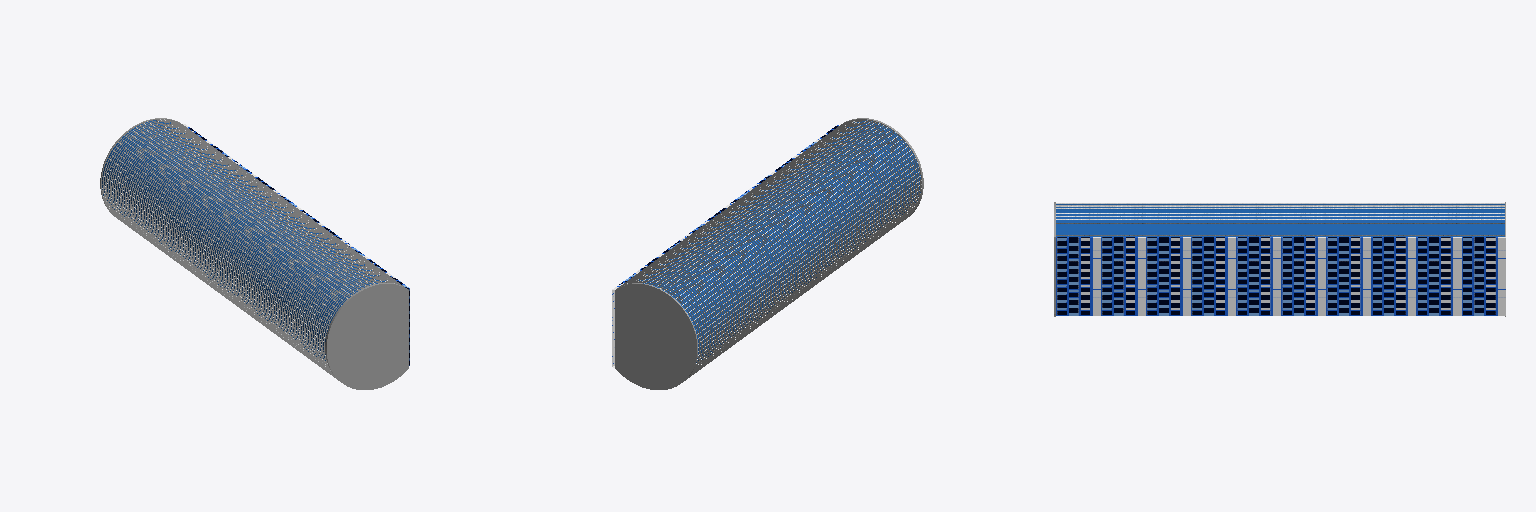
3 views of the same model, side by side, from view 1: azimuth 30°, elevation 25°; view 2: azimuth 150°, elevation 25°; view 3: azimuth 270°, elevation 25° (orthographic).
Visible parts, largest first — view 1: slab_01, glass_01, wall_01, wall_1_01; view 2: slab_01, glass_01, wall_01, wall_1_01; view 3: wall_1_01, glass_01, wall_01.
Part boxes in pixels (left/top/right/bottom): slab_01: left=100, top=118, right=408, bottom=389; glass_01: left=102, top=120, right=385, bottom=360; wall_01: left=102, top=119, right=394, bottom=370; wall_1_01: left=183, top=124, right=409, bottom=365; slab_01: left=615, top=118, right=923, bottom=389; glass_01: left=639, top=120, right=920, bottom=362; wall_01: left=627, top=120, right=921, bottom=364; wall_1_01: left=612, top=125, right=838, bottom=367; wall_1_01: left=1056, top=237, right=1505, bottom=315; glass_01: left=1056, top=204, right=1504, bottom=236; wall_01: left=1056, top=203, right=1504, bottom=235.
Bounding box in the file's own units: 3499 × 4080 × 16100.
4 materials, 2 textured.